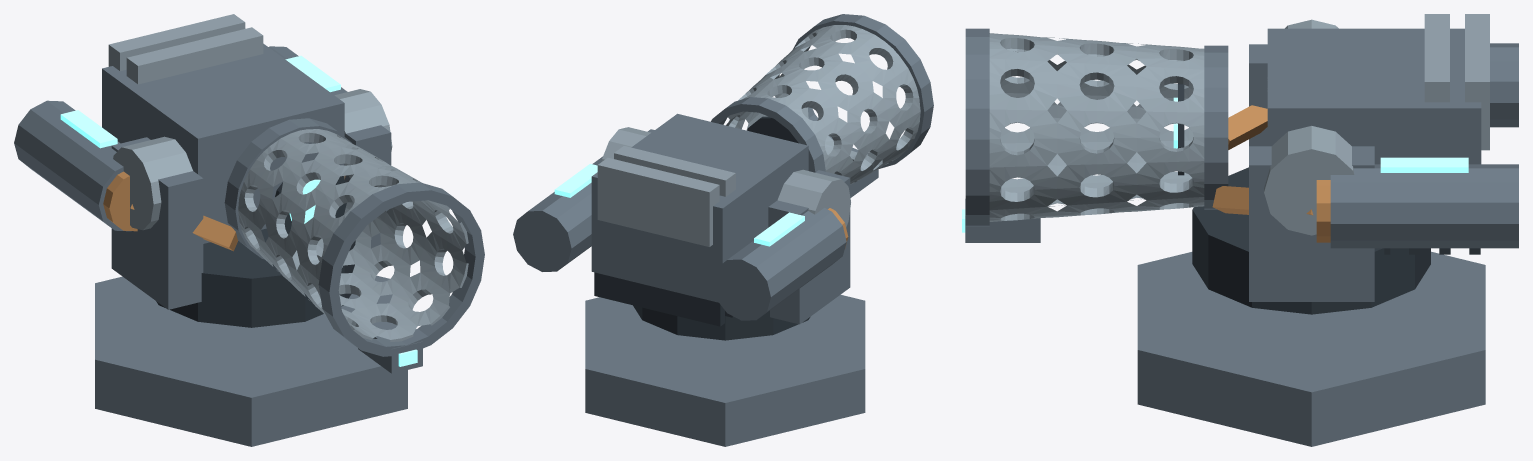
Rendered from plasma_t1.glb.
3 views of the same model, side by side, from view 1: azimuth 30°, elevation 25°; view 2: azimuth 150°, elevation 25°; view 3: azimuth 270°, elevation 25° (orthographic). The views are drawn at different scales.
Visible parts, largest first — view 1: Ground plinth, PERFORATED_NOZZLE, Breech, Nozzle reinforcing lip (×2), Cradle (×2), Bearing, Pressure reservoir, Capacitor (×2), Elevation motor (×2), Tank charge window (×2), Reservoir endcap, Pilot housing (+1 smaller); view 2: Ground plinth, Breech, PERFORATED_NOZZLE, Pressure reservoir (×2), Capacitor (×2), Nozzle reinforcing lip (×2), Cradle, Elevation motor (×2), Heat exchanger fin, Bearing, Tank charge window (×2), Recessed combustion core; view 3: Ground plinth, PERFORATED_NOZZLE, Breech, Pressure reservoir (×2), Cradle (×2), Nozzle reinforcing lip (×2), Bearing, Elevation motor, Capacitor (×2), Insulated feed pipe armor (×2), Pilot housing, Tank charge window (+1 smaller).
Part boxes in pixels (<box>): Ground plinth: <box>95,275,407,446</box>; PERFORATED_NOZZLE: <box>238,129,468,341</box>; Breech: <box>102,43,344,243</box>; Nozzle reinforcing lip (×2): <box>224,118,484,356</box>; Cradle (×2): <box>111,91,391,309</box>; Bearing: <box>156,228,355,327</box>; Pressure reservoir: <box>14,100,131,231</box>; Capacitor (×2): <box>108,14,263,84</box>; Elevation motor (×2): <box>113,89,392,230</box>; Tank charge window (×2): <box>60,55,340,148</box>; Reservoir endcap: <box>103,171,137,231</box>; Pilot housing: <box>358,321,422,373</box>; Ground plinth: <box>585,294,865,446</box>; Breech: <box>591,113,808,302</box>; PERFORATED_NOZZLE: <box>726,25,920,184</box>; Pressure reservoir (×2): <box>513,156,846,320</box>; Capacitor (×2): <box>597,146,735,246</box>; Nozzle reinforcing lip (×2): <box>711,14,933,172</box>; Cradle: <box>768,170,850,324</box>; Elevation motor (×2): <box>601,127,850,227</box>; Heat exchanger fin: <box>594,272,724,326</box>; Bearing: <box>633,305,810,340</box>; Tank charge window (×2): <box>554,164,804,246</box>; Recessed combustion core: <box>747,116,798,143</box>; Ground plinth: <box>1137,251,1485,446</box>; PERFORATED_NOZZLE: <box>989,33,1204,221</box>; Breech: <box>1267,28,1481,164</box>; Pressure reservoir (×2): <box>1330,43,1518,248</box>; Cradle (×2): <box>1249,44,1374,301</box>; Nozzle reinforcing lip (×2): <box>965,28,1228,226</box>; Bearing: <box>1192,167,1430,314</box>; Elevation motor: <box>1264,126,1354,235</box>; Capacitor (×2): <box>1424,14,1489,150</box>; Insulated feed pipe armor (×2): <box>1212,105,1313,215</box>; Pilot housing: <box>965,199,1040,242</box>; Tank charge window: <box>1380,157,1468,172</box>.
Bounding box in the file's own units: 1.6 × 1.43 × 2.22.
